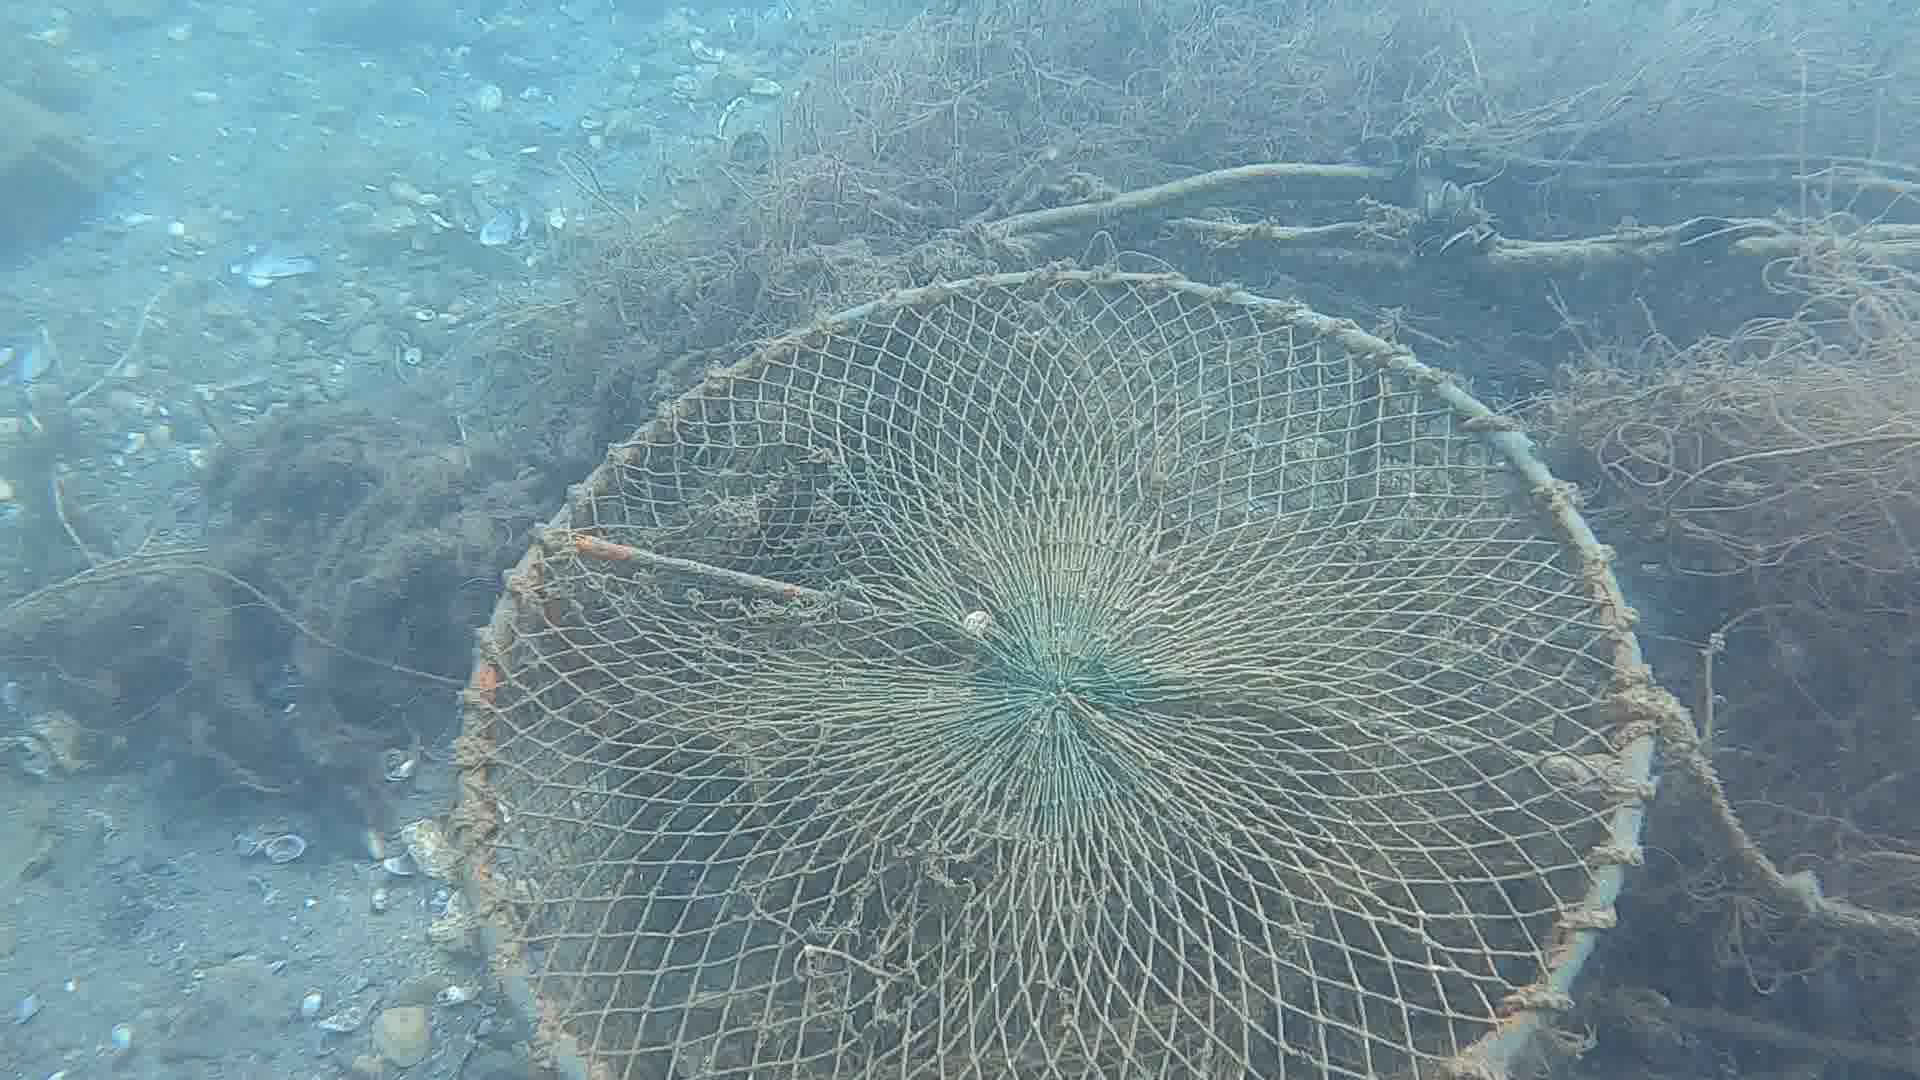circular fish trap: (447, 260, 1662, 1080)
